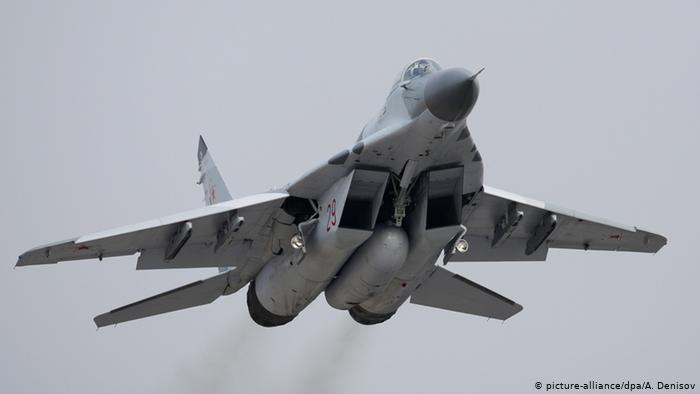Mig-29: (76, 32, 640, 375)
